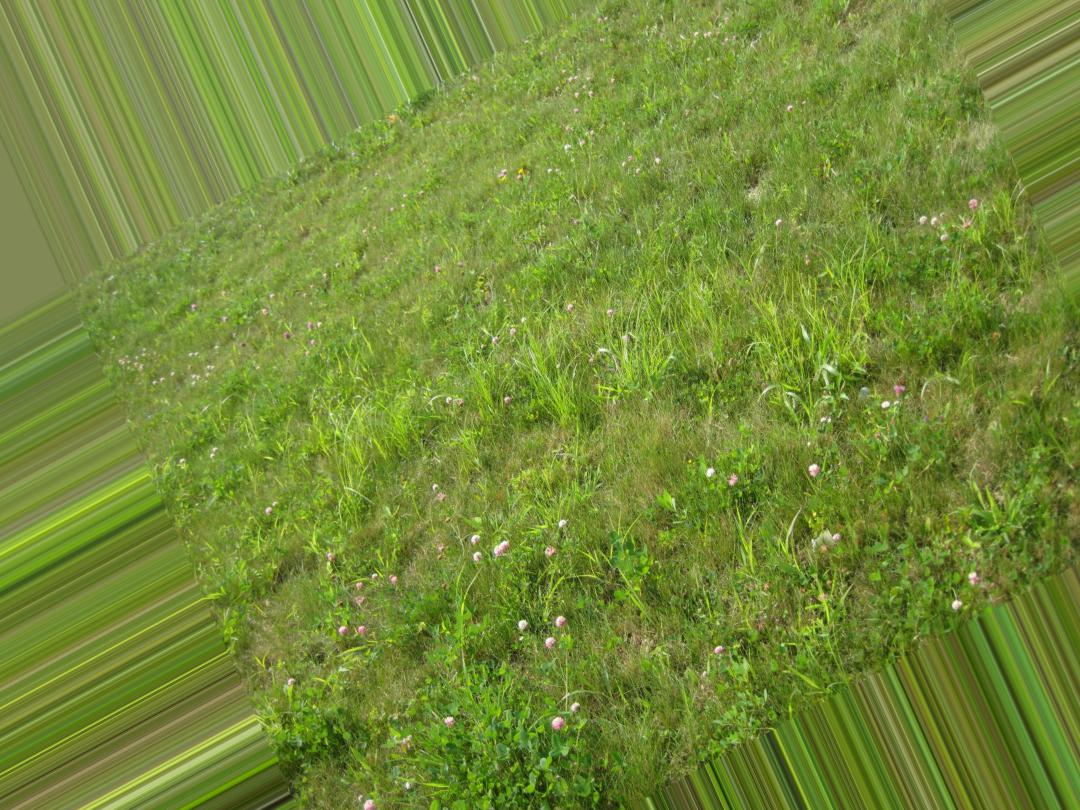patch: (616, 452, 647, 481)
